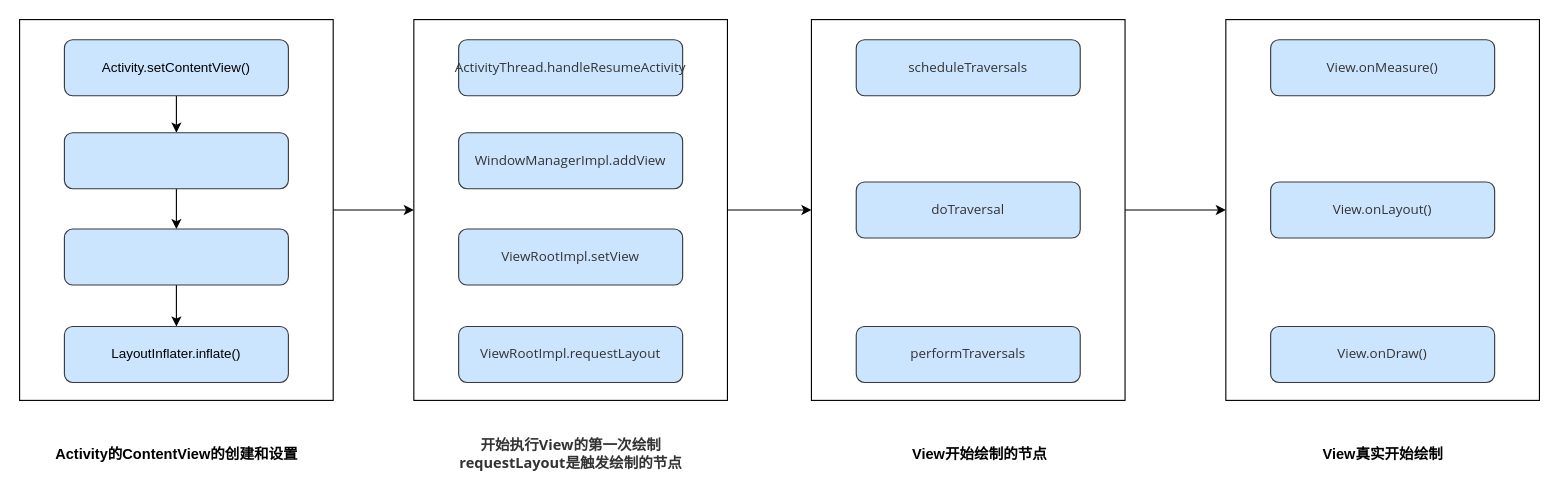
Image size: 1559x496. Some labels were removed from this diagram. Each missing label, with the centre of its shape:
getWindow().setContentView(): point (175, 160)
PhoneWindow.setContentView(): point (175, 256)
